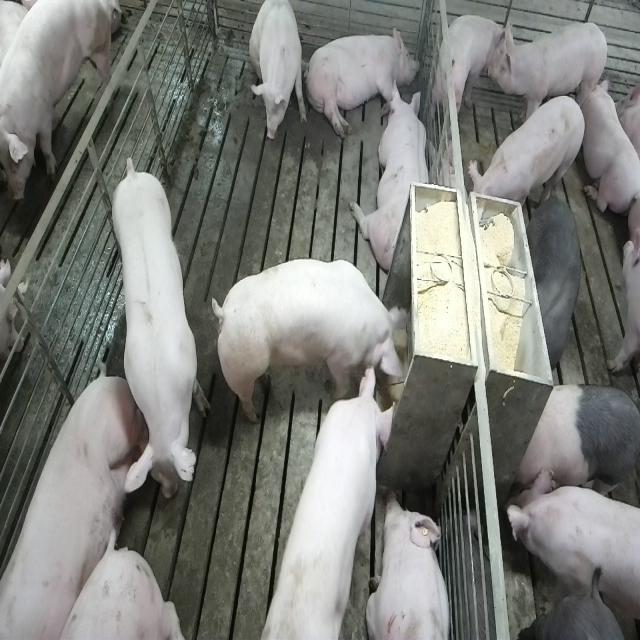Feeding: (257, 360, 400, 636), (208, 255, 410, 421)
Lateral_lying: (303, 22, 418, 140)
Sitting: (250, 1, 307, 148)
Standing: (105, 151, 206, 501), (0, 0, 116, 205), (505, 468, 639, 638), (512, 382, 638, 516), (471, 92, 589, 225), (496, 22, 610, 126), (434, 15, 515, 130), (528, 192, 582, 364), (518, 593, 638, 640)
Sternal_lying: (354, 80, 432, 274), (368, 492, 455, 640), (580, 70, 639, 216), (615, 61, 640, 160)
